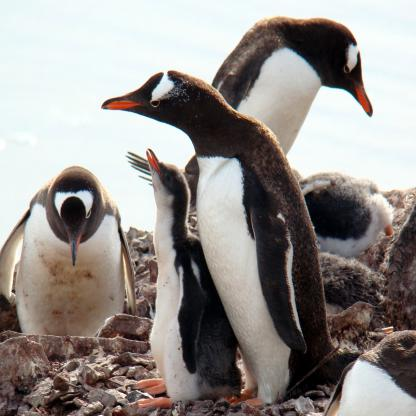Penguin: (91, 64, 361, 416), (185, 13, 380, 252), (126, 140, 267, 402), (0, 150, 132, 372), (248, 151, 400, 278)
